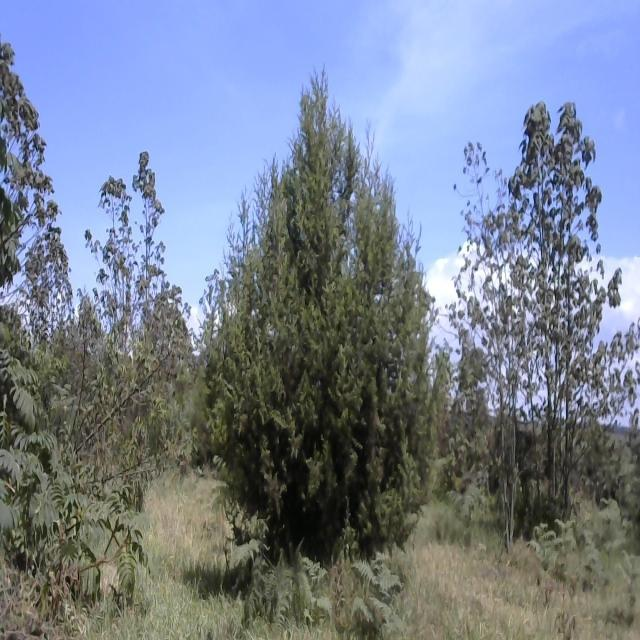Croton machrostychus: (476, 64, 628, 562)
Juniperus procesera: (186, 62, 461, 585)
